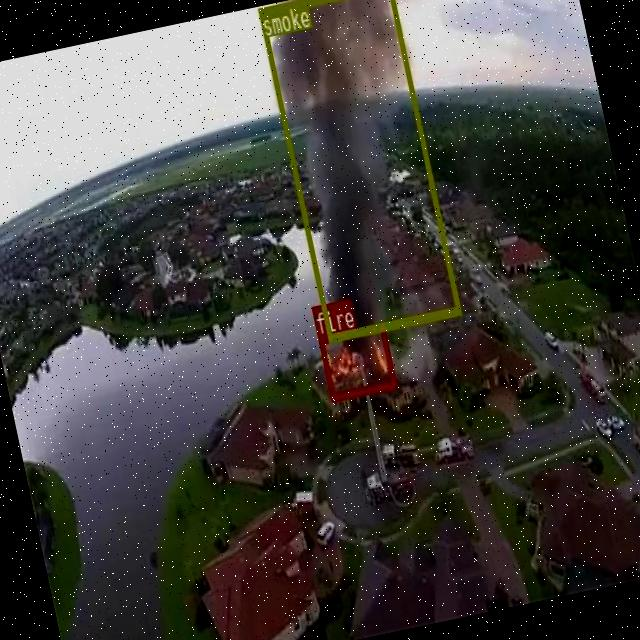fire: (318, 322, 396, 401)
smoke: (256, 0, 460, 341)
